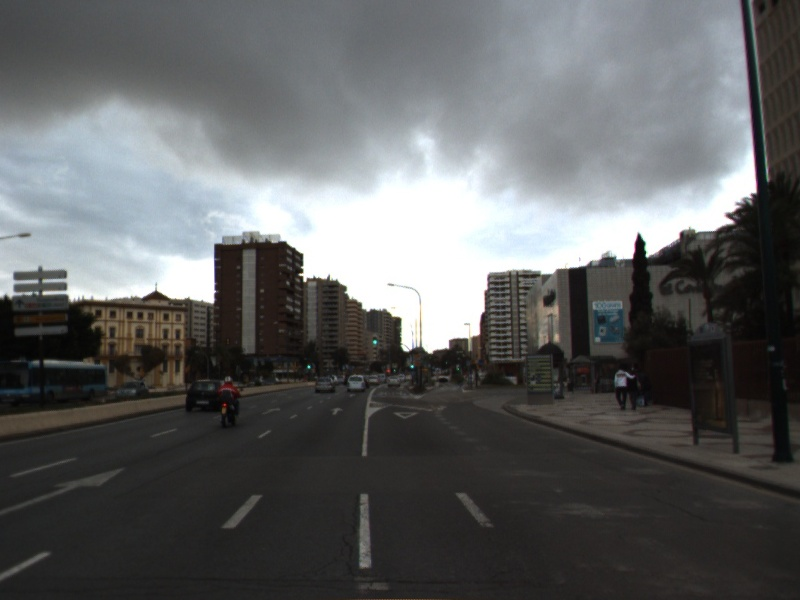STRAIGHT: (1, 461, 132, 515), (259, 405, 283, 417), (327, 405, 346, 416)
